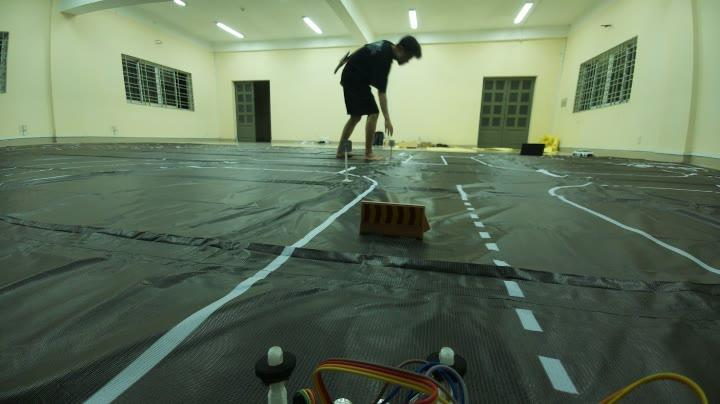roadblock: (354, 190, 445, 252)
